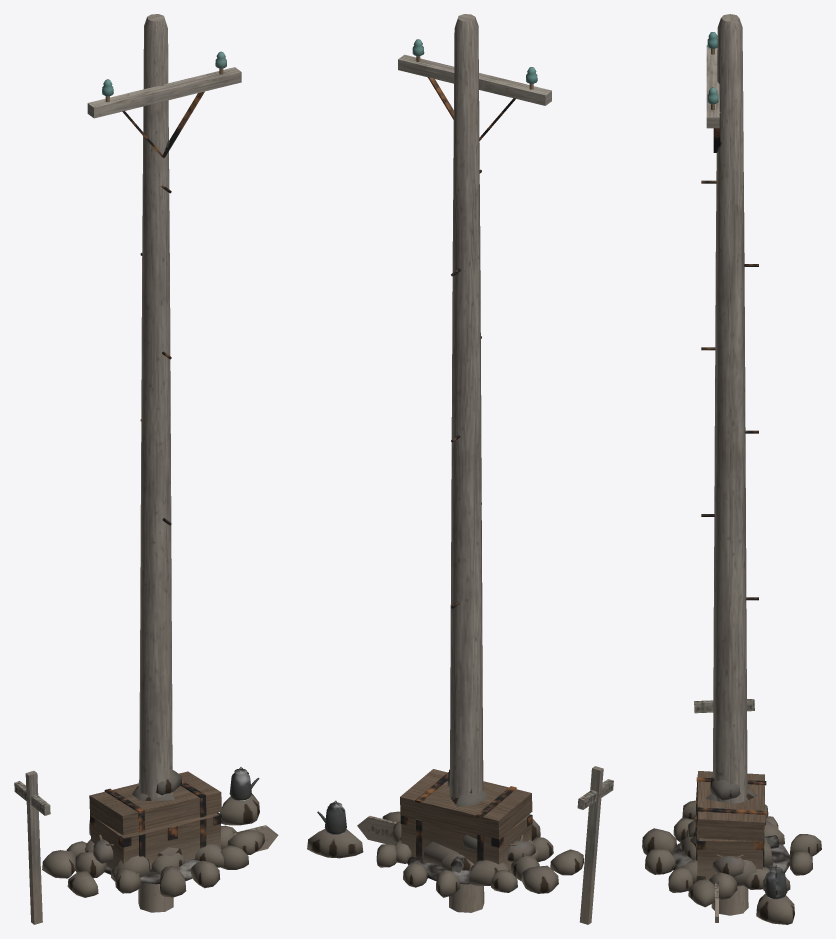
The model's file is trail.glb.
3 views of the same model, side by side, from view 1: azimuth 30°, elevation 25°; view 2: azimuth 150°, elevation 25°; view 3: azimuth 270°, elevation 25° (orthographic).
Visible parts, largest first — view 1: telegraph_pole, trunk, grave_trail, campfire_ring, cairn; view 2: telegraph_pole, trunk, grave_trail, campfire_ring, cairn, sign_arm; view 3: telegraph_pole, campfire_ring, trunk, grave_trail, cairn.
Boxes of the visible parts, <box> form: telegraph_pole: <box>87,14,241,912</box>; trunk: <box>89,771,221,869</box>; grave_trail: <box>14,770,264,924</box>; campfire_ring: <box>66,767,259,897</box>; cairn: <box>116,770,182,877</box>; telegraph_pole: <box>398,14,551,912</box>; trunk: <box>400,769,532,869</box>; grave_trail: <box>382,766,613,924</box>; campfire_ring: <box>307,800,553,897</box>; cairn: <box>400,769,536,864</box>; sign_arm: <box>357,816,396,845</box>; telegraph_pole: <box>701,14,758,915</box>; campfire_ring: <box>642,816,821,924</box>; trunk: <box>695,771,766,881</box>; grave_trail: <box>680,699,784,907</box>; cairn: <box>687,777,772,886</box>.
Bounding box in the file's own units: 2.3 × 7.48 × 1.37.
1 material, 1 textured.
